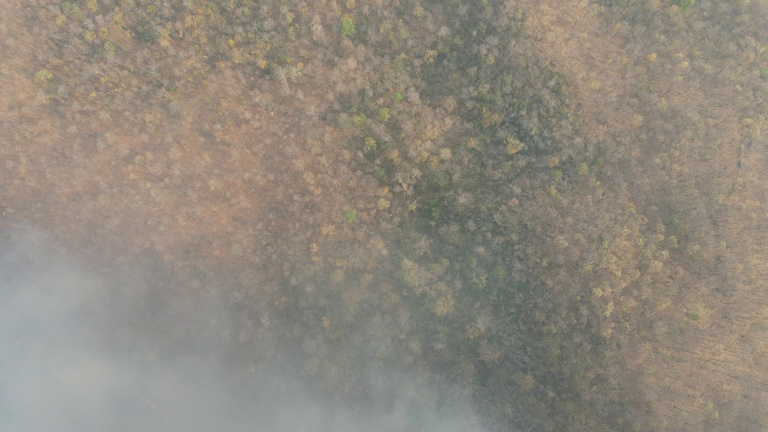fire: (110, 372, 178, 432)
smoke: (1, 297, 406, 432)
